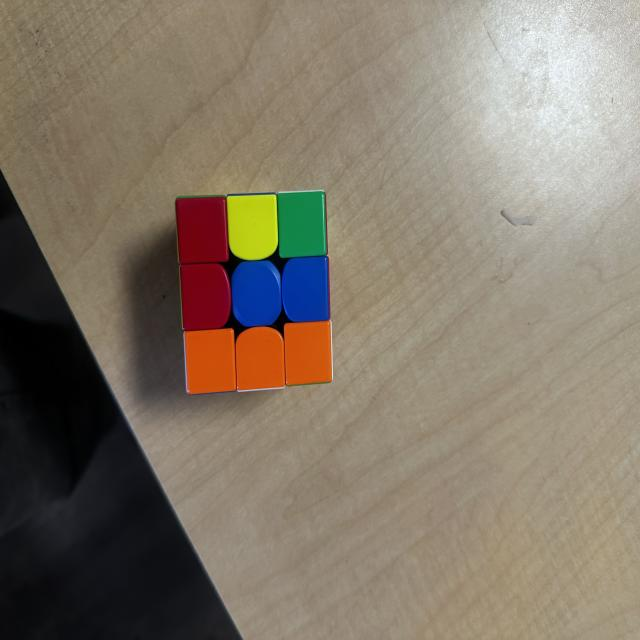sticker: (177, 258, 234, 334), (174, 194, 231, 267), (230, 259, 283, 330), (184, 327, 238, 396), (226, 193, 279, 263), (234, 324, 287, 392), (276, 190, 327, 260), (283, 319, 333, 387), (281, 256, 331, 324)
